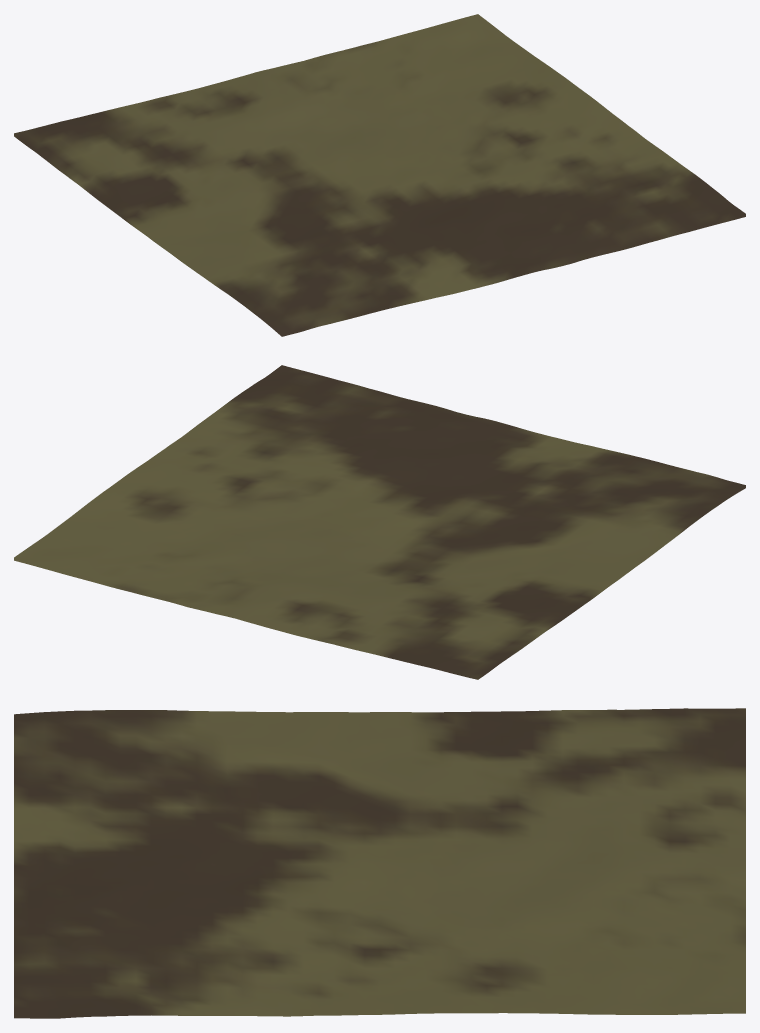
File: land_m_12_01.glb
The picture shows the model from 3 angles, top to bottom: view 1: azimuth 30°, elevation 25°; view 2: azimuth 150°, elevation 25°; view 3: azimuth 270°, elevation 25°; orthographic projection. The views are drawn at different scales.
Parts seen in each view (by area): view 1: land_m_12_01; view 2: land_m_12_01; view 3: land_m_12_01.
Boxes of the visible parts, bbox=[...] form: land_m_12_01: bbox=[14, 14, 745, 336]; land_m_12_01: bbox=[14, 365, 745, 679]; land_m_12_01: bbox=[14, 708, 745, 1018].
Bounding box in the file's own units: 960 × 27.23 × 960.
